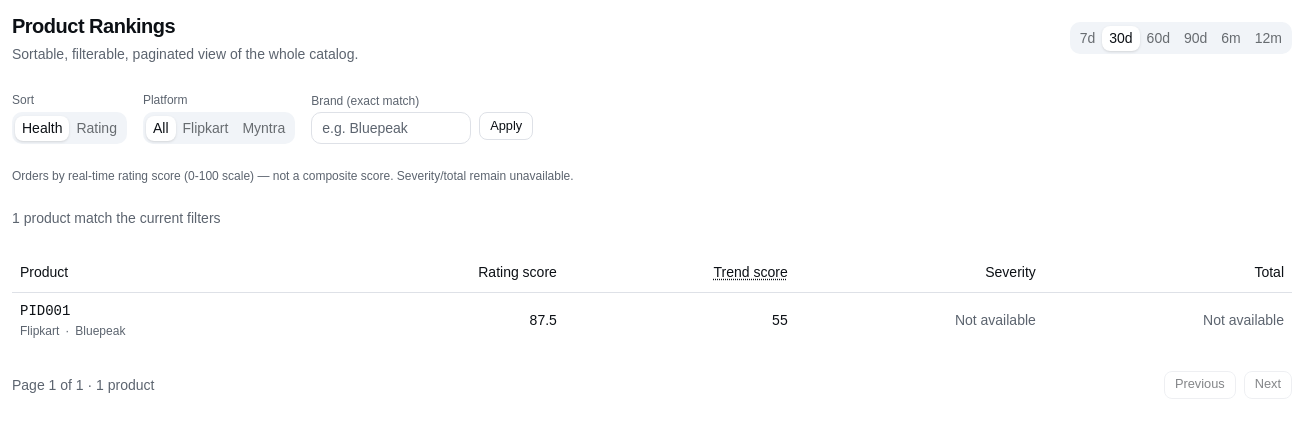
Test: Products / Rankings (Phase 7 Step 4) › 11. applying a brand filter sends the exact string, clearing removes it from the URL
Expected: the link "PID001" is shown, [20,302,70,318]
Step 1. Type "Bluepeak" into the field labelled "Brand (exact match)" → {"x": 391, "y": 128}, box [311,112,471,144]
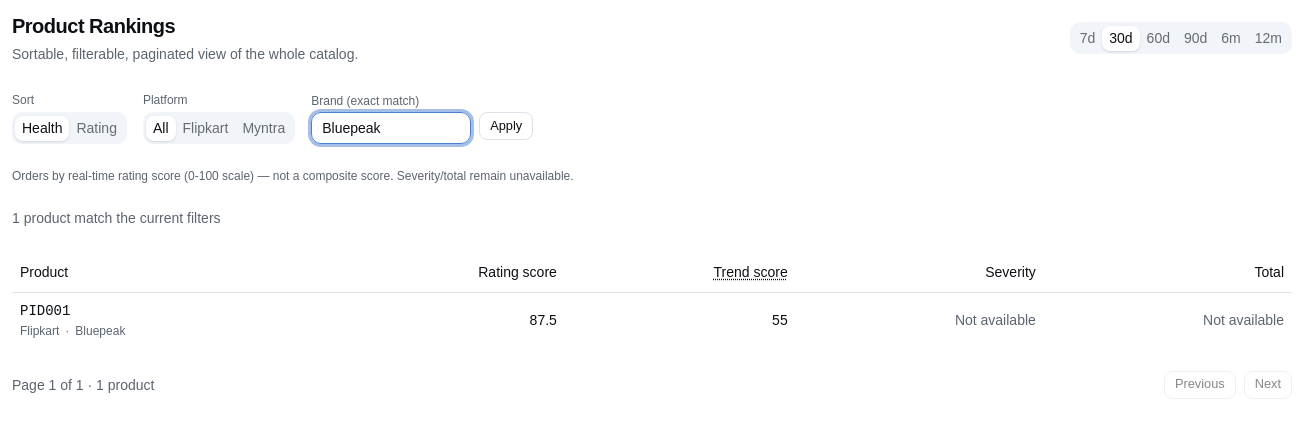
Step 2. Click the button "Apply" → {"x": 506, "y": 126}, box [479,112,533,140]
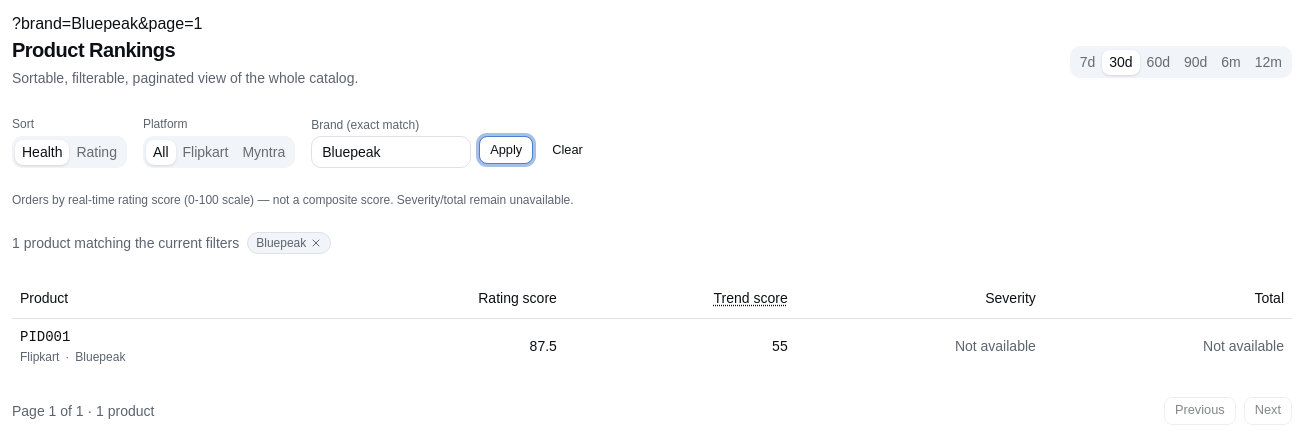
Now the text with test id "location-search" shows "brand=Bluepeak", box [12,15,202,32]
Step 3. Click the button "Clear" → {"x": 568, "y": 150}, box [541,136,594,164]
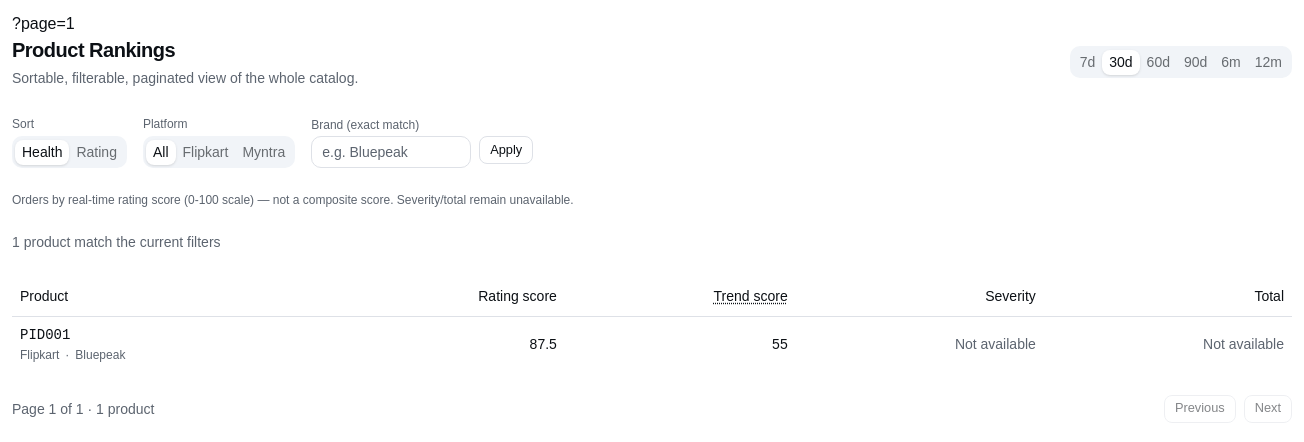
Now the text with test id "location-search" no longer shows "brand="
Now the button "Clear" is gone
